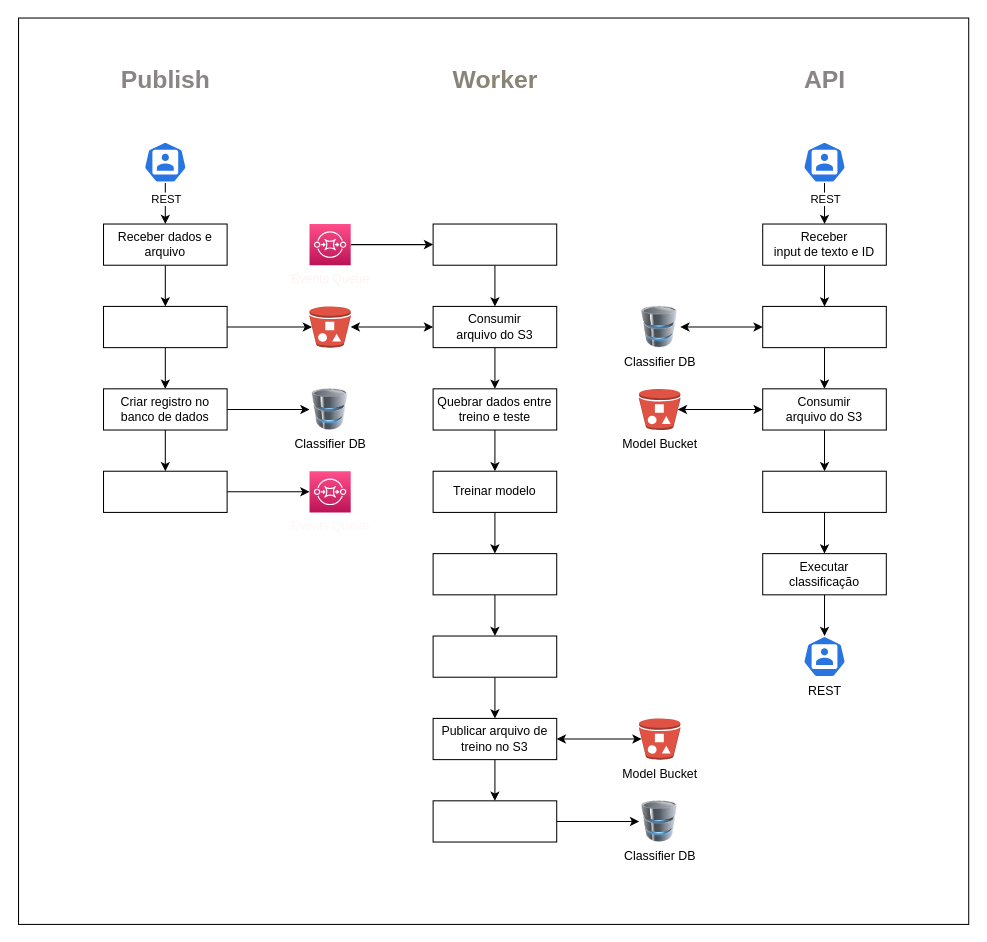
The diagram is 987 pixels wide and 942 high, and some of its shapes have lost their labels. Here are the shapes that lost their labels. From the top down, the centre of each, then its label:
At (494,244): "Consumir evento".
At (164,326): "Publicar arquivo no S3".
At (329,326): "Raw Bucket".
At (824,326): "Consumir registro do banco de dados".
At (164,491): "Publicar evento na fila".
At (824,491): "Recuperar instancia do classificador".
At (494,574): "Gerar arquivo de treino".
At (494,656): "Testar modelo com conjunto de teste".
At (494,821): "Atualizar registro do banco de dados".
